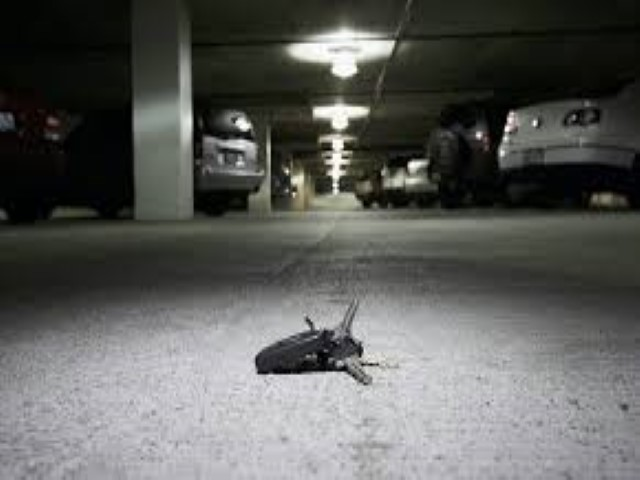key: (256, 300, 378, 378)
